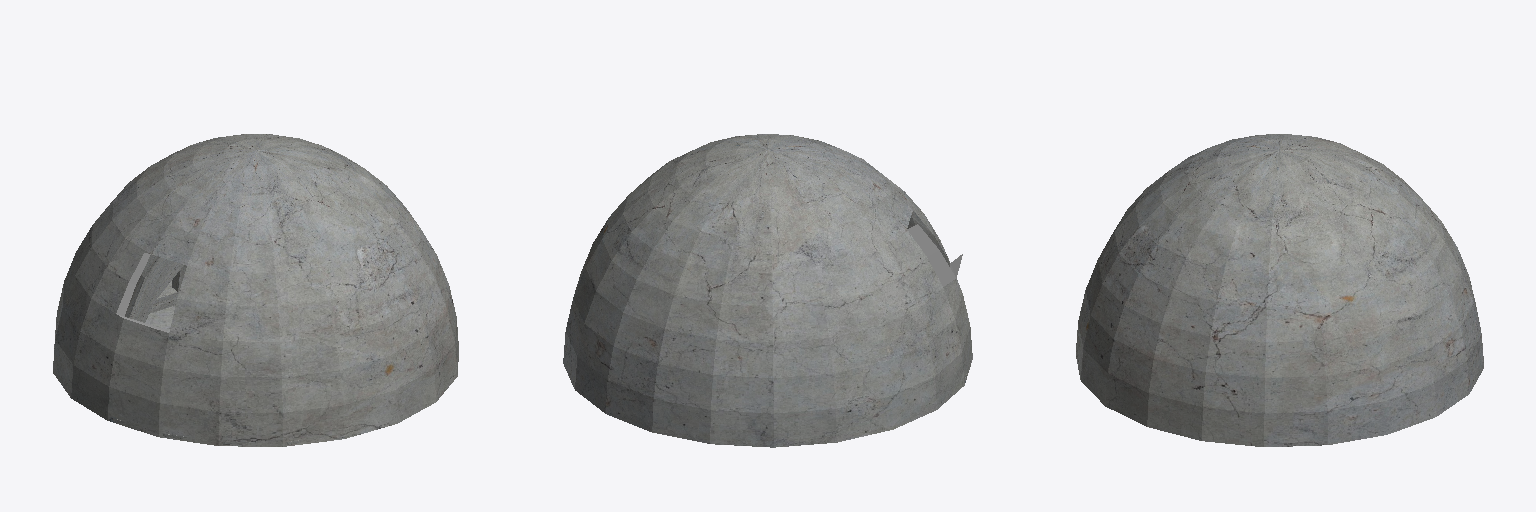
3 views of the same model, side by side, from view 1: azimuth 30°, elevation 25°; view 2: azimuth 150°, elevation 25°; view 3: azimuth 270°, elevation 25° (orthographic).
Visible parts, largest first — view 1: pSphere3; view 2: pSphere3; view 3: pSphere3.
Boxes of the visible parts, box(x1,y1,x2,y2) form: pSphere3: box(53, 134, 458, 446); pSphere3: box(563, 134, 972, 447); pSphere3: box(1076, 134, 1483, 446).
Bounding box in the file's own units: 24.93 × 14.23 × 24.93.
2 materials, 1 textured.